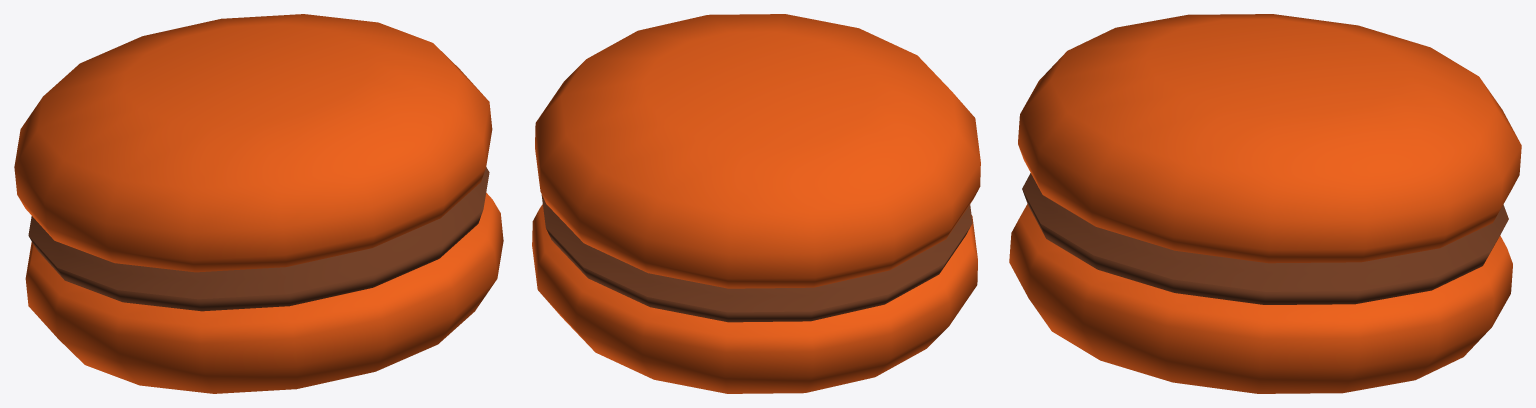
File: SM_macaron_05.glb
3 renders of one model, left to right at view 1: azimuth 30°, elevation 25°; view 2: azimuth 150°, elevation 25°; view 3: azimuth 270°, elevation 25°, orthographic. The views are drawn at different scales.
Visible parts, largest first — view 1: SM_macaron_05; view 2: SM_macaron_05; view 3: SM_macaron_05.
Boxes of the visible parts, <box> form: SM_macaron_05: <box>14,14,503,393</box>; SM_macaron_05: <box>532,14,980,393</box>; SM_macaron_05: <box>1009,14,1521,393</box>.
Size of the model in its own units: 0.0923 by 0.0575 by 0.0923.
1 material, 1 textured.
